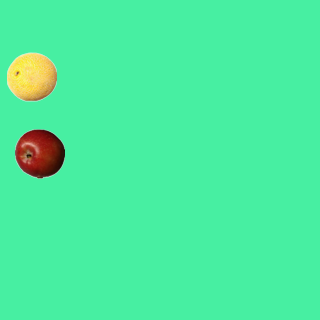Apple Braeburn: (14, 128, 64, 178)
Cantaloupe 1: (6, 51, 56, 101)
